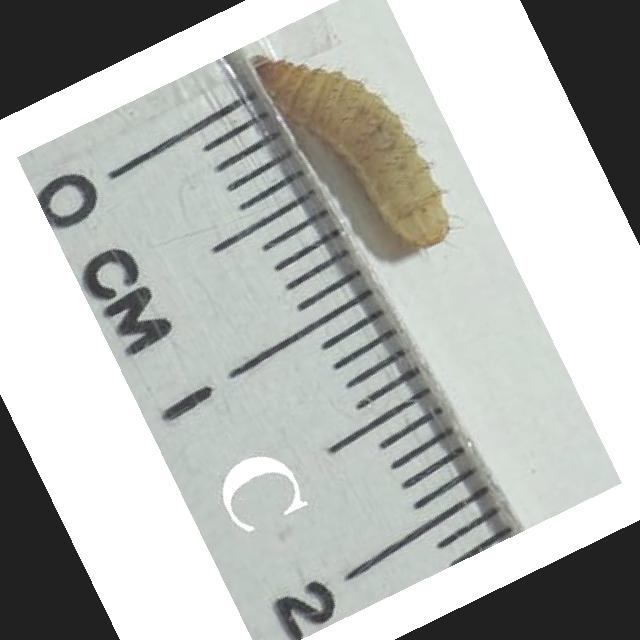Maggot: (249, 49, 454, 255)
